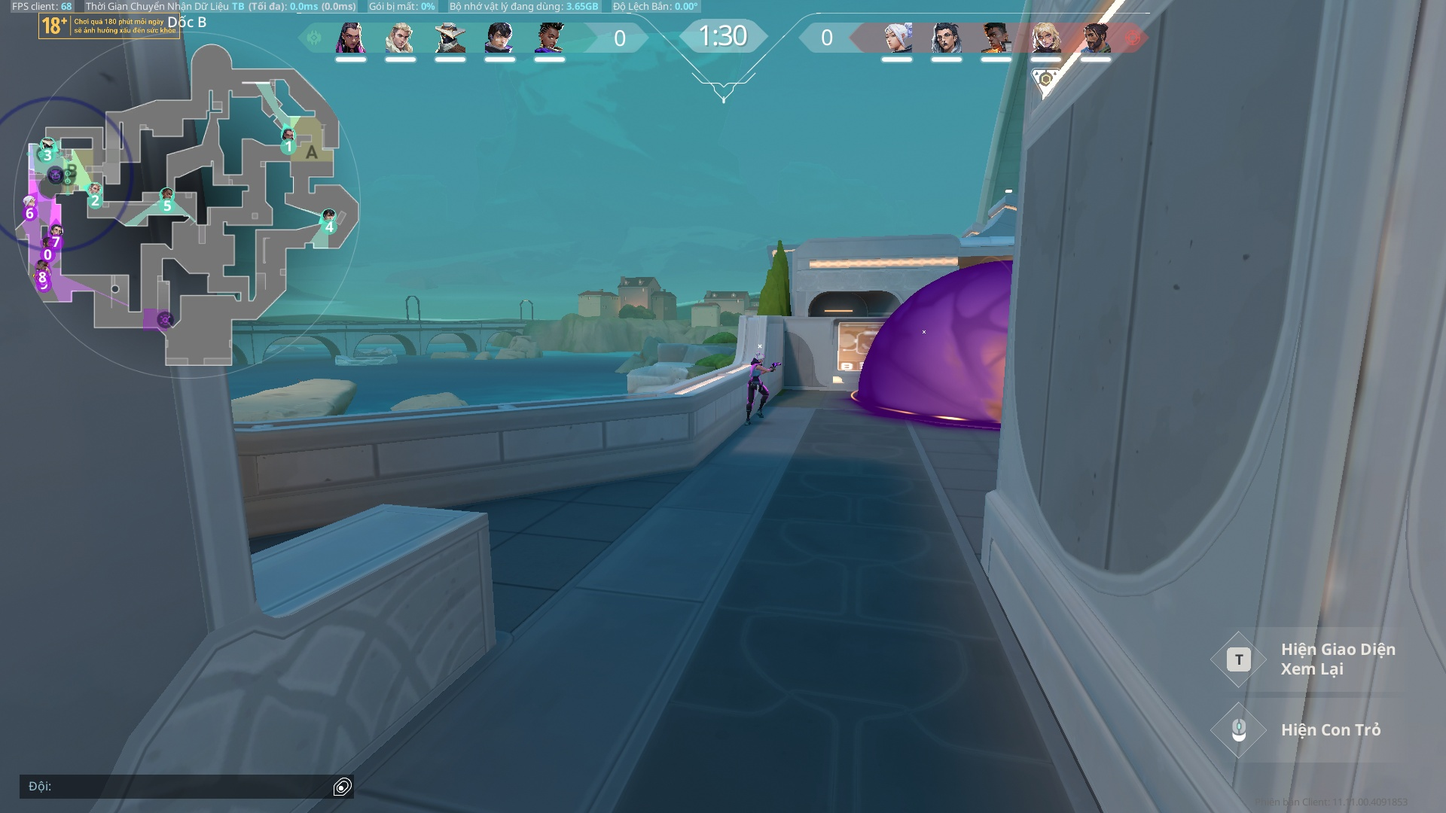body: (751, 359, 762, 378)
head: (755, 352, 764, 362)
